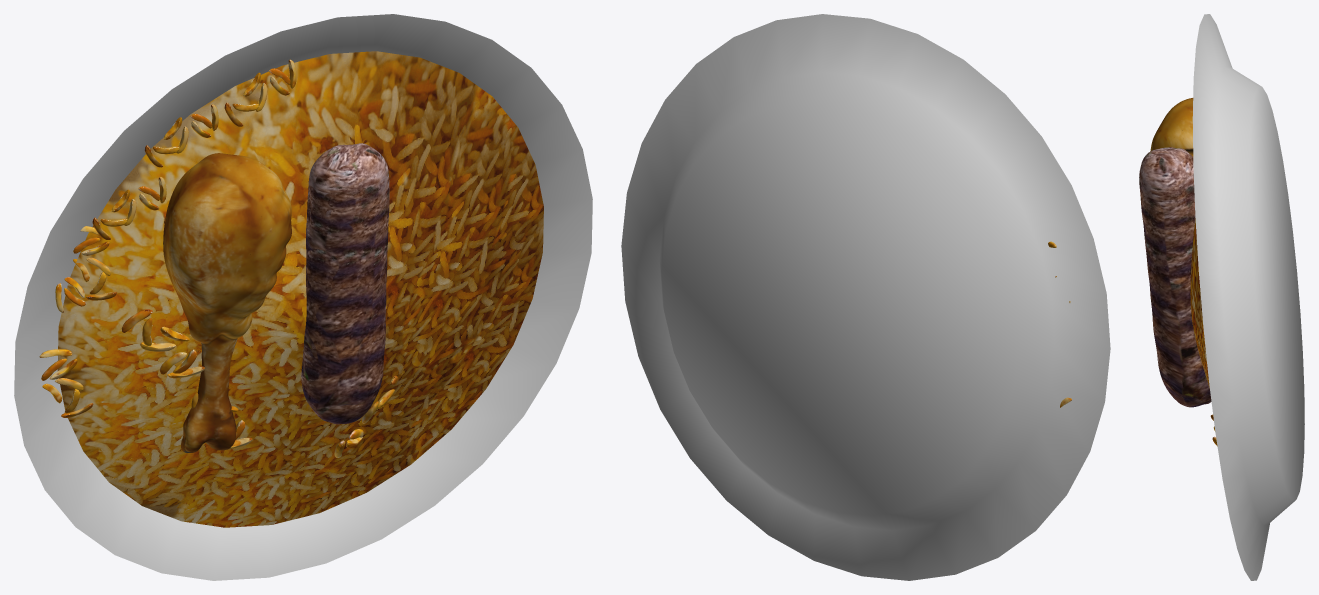
Rendered from comboi.glb.
3 renders of one model, left to right at view 1: azimuth 30°, elevation 25°; view 2: azimuth 150°, elevation 25°; view 3: azimuth 270°, elevation 25°, orthographic. The views are drawn at different scales.
Parts seen in each view (by area): view 1: Cone, Circle.002, 15513_Fried_Chicken_Drumstick_v1.001, Cylinder.002, Plane.025, Plane.004, Plane.011, Plane.009, Plane.008, Plane.010, Plane.027; view 2: Circle.002; view 3: Circle.002, Cylinder.002, 15513_Fried_Chicken_Drumstick_v1.001, Cone.
Part boxes in pixels (<box>): Cone: <box>57,51,543,527</box>; Circle.002: <box>14,14,592,580</box>; 15513_Fried_Chicken_Drumstick_v1.001: <box>163,153,291,452</box>; Cylinder.002: <box>301,143,389,424</box>; Plane.025: <box>121,309,204,378</box>; Plane.004: <box>39,349,93,417</box>; Plane.011: <box>224,59,296,126</box>; Plane.009: <box>92,177,166,239</box>; Plane.008: <box>73,226,116,300</box>; Plane.010: <box>144,104,218,167</box>; Plane.027: <box>334,375,398,457</box>; Circle.002: <box>621,14,1110,580</box>; Circle.002: <box>1192,14,1304,580</box>; Cylinder.002: <box>1139,147,1211,407</box>; 15513_Fried_Chicken_Drumstick_v1.001: <box>1150,98,1193,156</box>; Cone: <box>1190,218,1209,388</box>.
Size of the model in its own units: 5.38 by 5.35 by 1.56.
14 materials, 13 textured.
